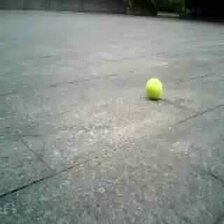tennis: (146, 79, 163, 98)
